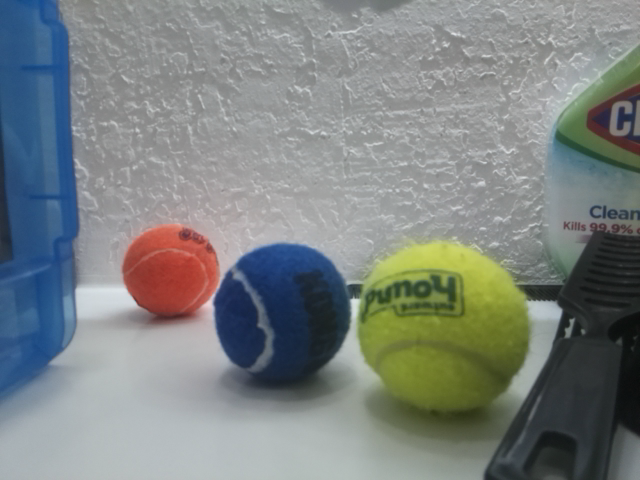blue-ball: (213, 240, 354, 389)
orange-ball: (120, 223, 222, 321)
yellow-ball: (357, 240, 533, 415)
